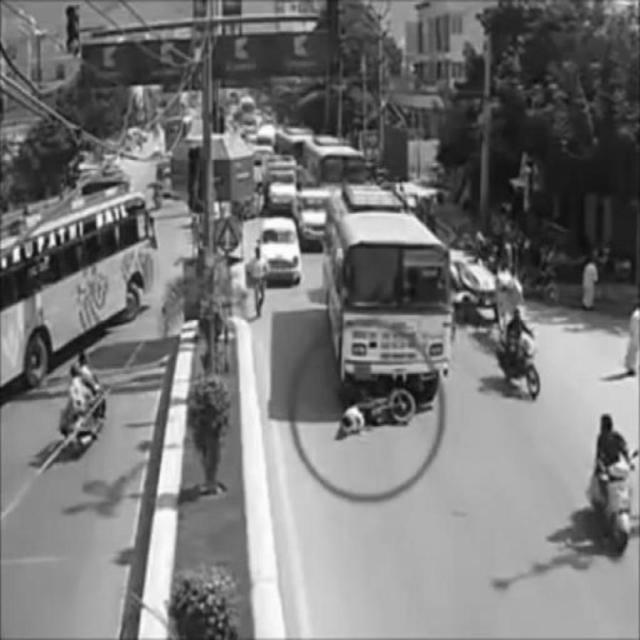accident: (325, 187, 455, 440)
person: (250, 246, 270, 319)
vehicle: (3, 177, 160, 388), (590, 412, 632, 549), (494, 312, 544, 395), (66, 351, 106, 449), (261, 214, 302, 287)
